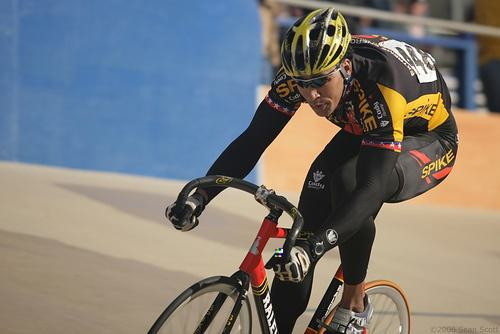car: (146, 173, 413, 334)
person: (164, 6, 462, 334)
